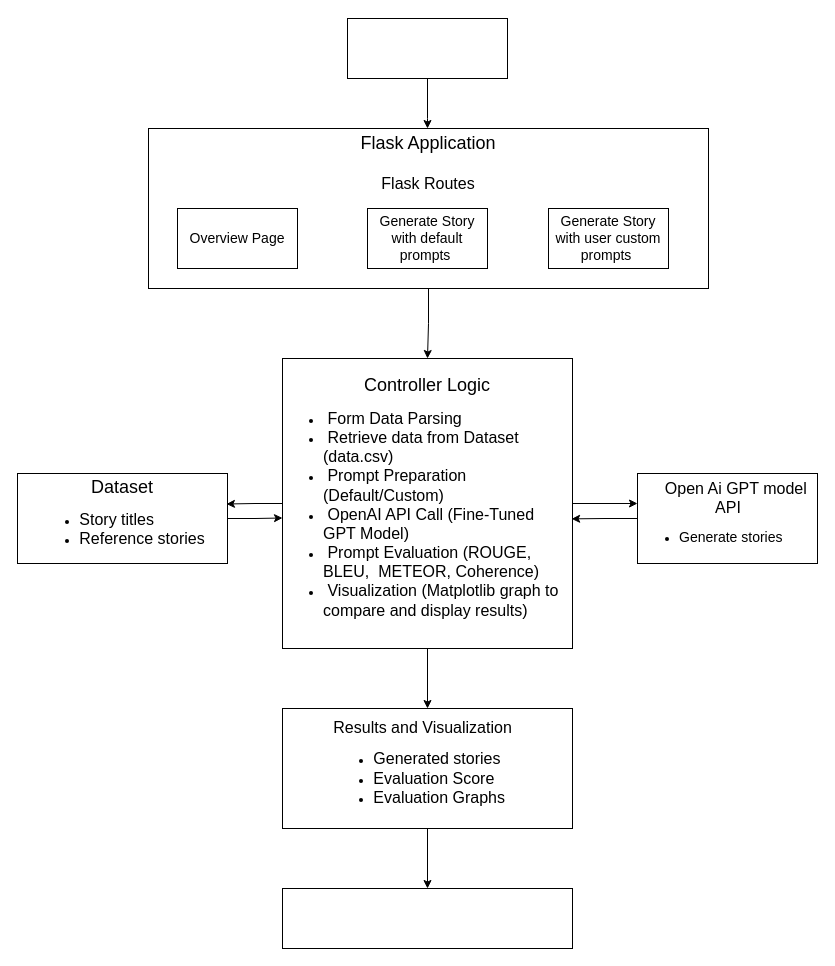
Some shapes in this 835 by 966 pixel diagram are drawn without their labels. Each missing label, with the centre of its shape:
"Client Response (Rendered HTML with Data)" belongs at (427,918).
"Client UI (HTML Forms and Pages)" belongs at (427,48).
